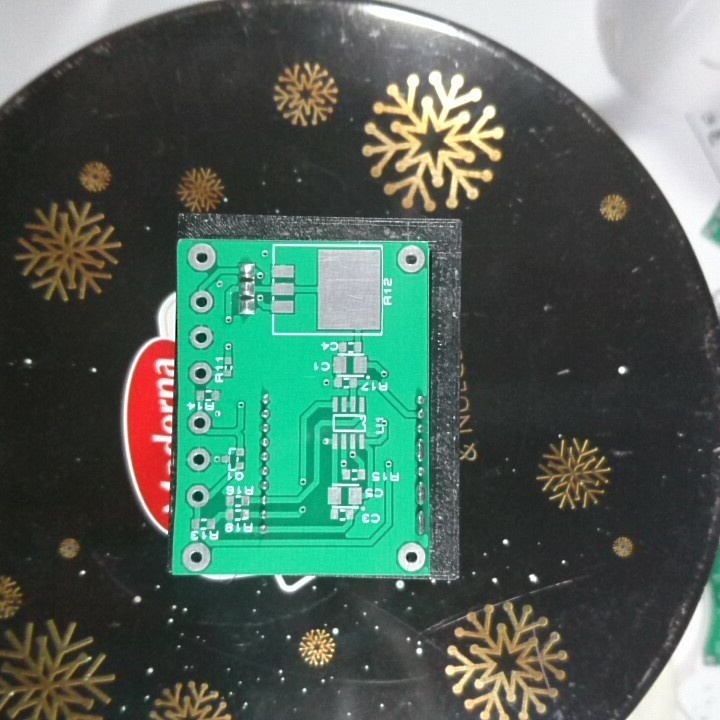F: (179, 539, 214, 573), (395, 244, 428, 276), (395, 541, 428, 573), (186, 243, 217, 272), (185, 482, 212, 511), (188, 359, 215, 386), (185, 446, 212, 473), (188, 288, 214, 316), (186, 409, 214, 435), (187, 325, 215, 350)
P: (413, 508, 428, 536), (414, 480, 428, 506), (414, 438, 428, 463)
